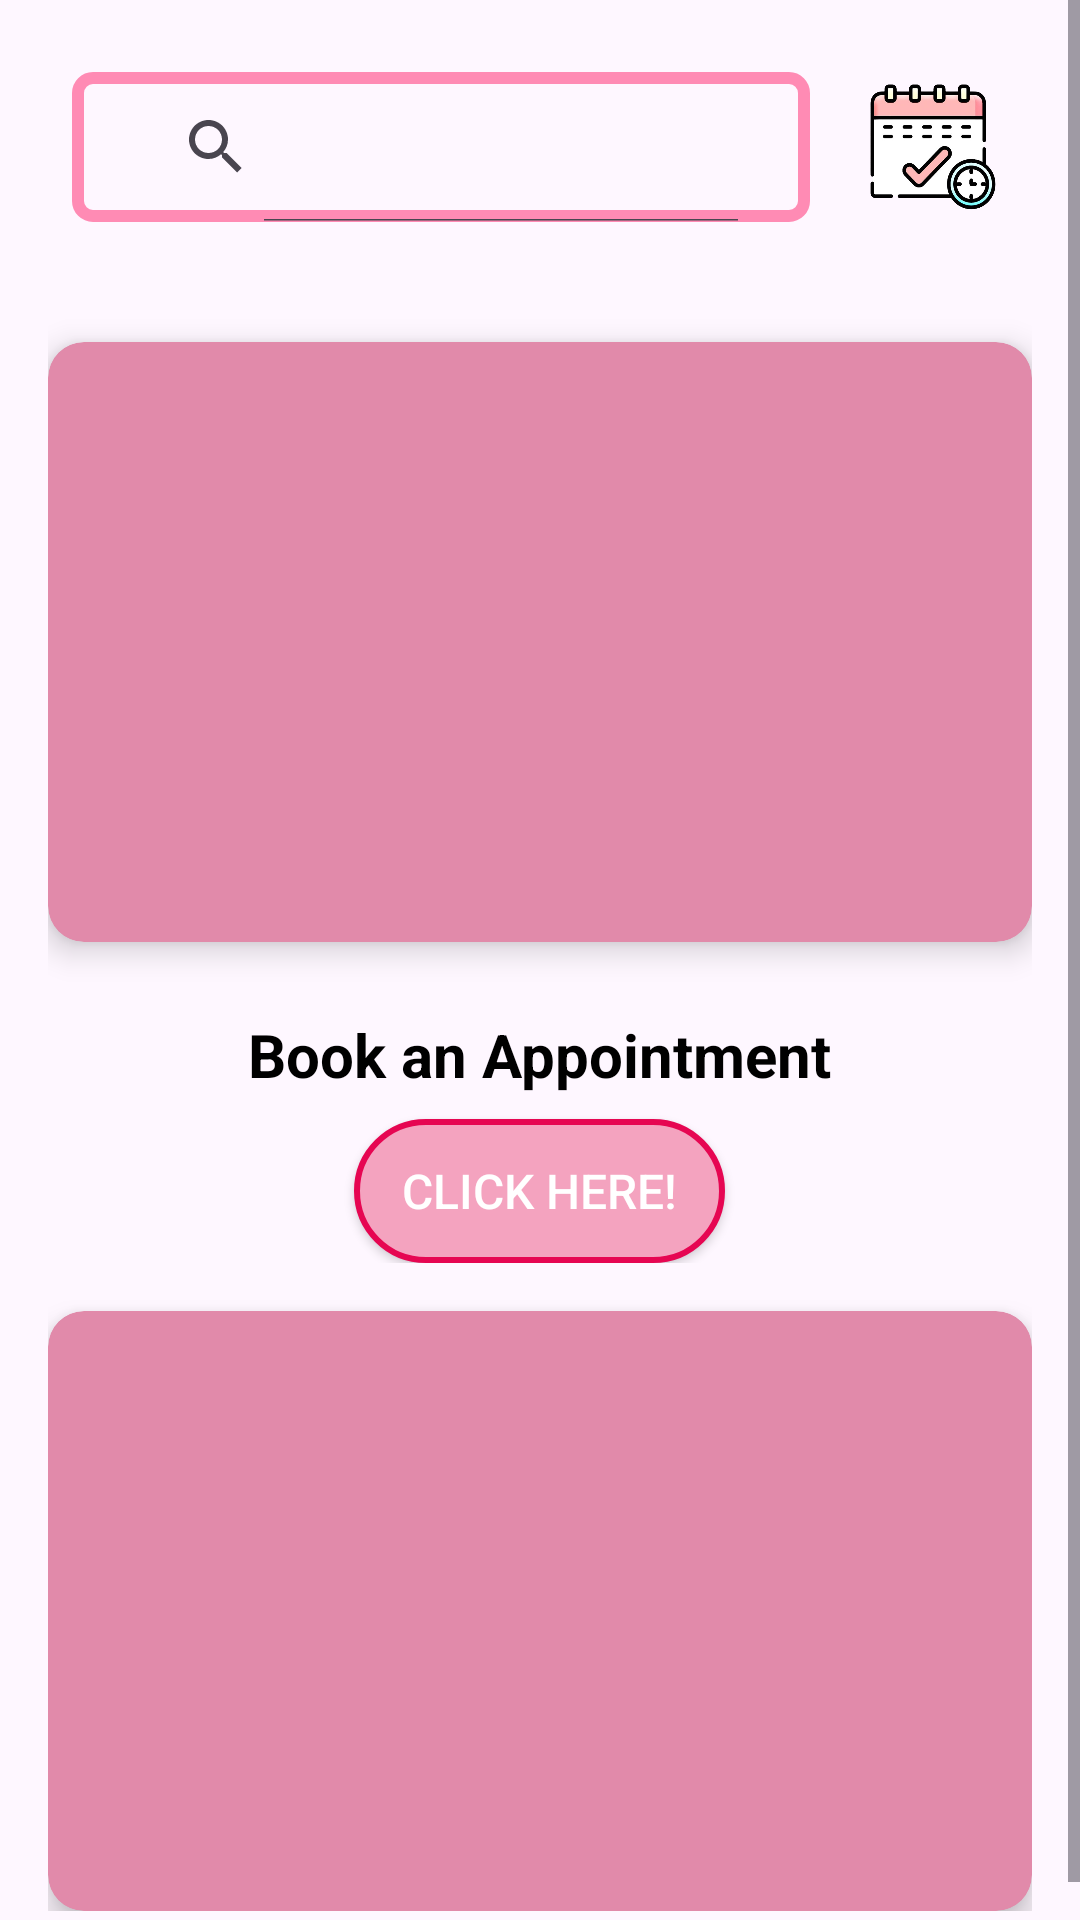

Where to tap for icons on this 1080 × 1920 app screen, as (x,y):
View Appointments: (933,146)
